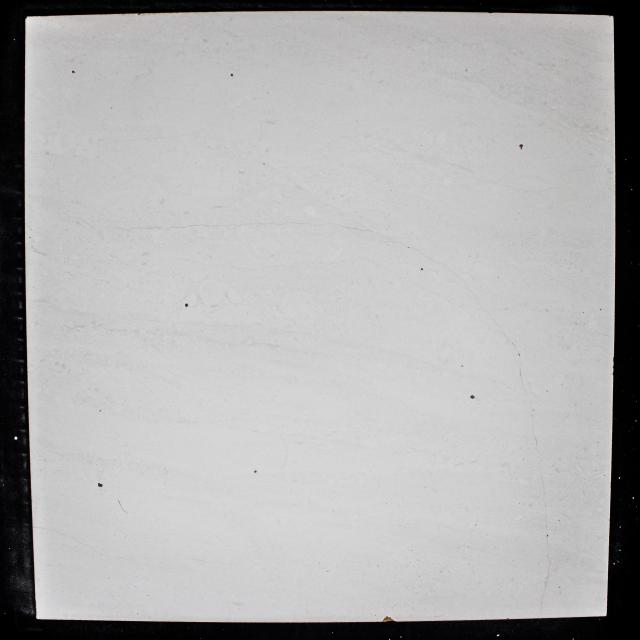edge-chipping: (382, 615, 396, 622)
hole: (96, 482, 104, 488), (470, 394, 476, 400), (518, 144, 524, 150), (253, 469, 258, 474), (184, 303, 188, 308), (71, 70, 76, 74), (230, 73, 234, 76), (421, 268, 424, 271)
line: (543, 503, 553, 579), (406, 246, 440, 264), (481, 306, 502, 328), (144, 224, 208, 231), (212, 222, 264, 228), (531, 414, 539, 453), (341, 224, 374, 233), (539, 581, 548, 611), (276, 221, 312, 226), (446, 266, 460, 277), (511, 341, 520, 357), (468, 286, 478, 300), (118, 500, 128, 514), (519, 366, 525, 389)
